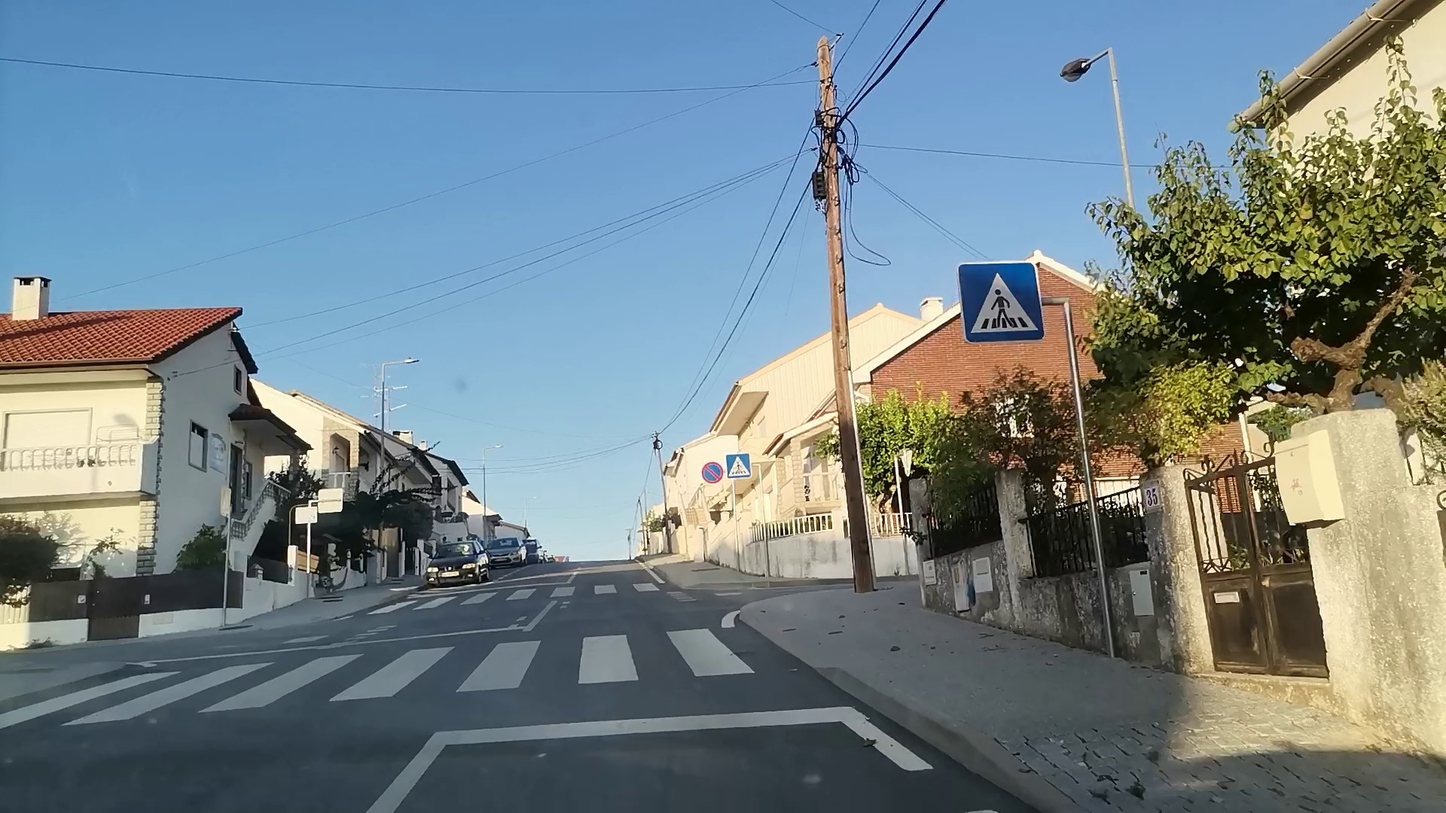Stairs: (65, 672, 232, 724), (203, 655, 359, 710), (330, 648, 449, 701), (458, 641, 539, 692), (669, 630, 751, 675), (579, 635, 638, 682)
